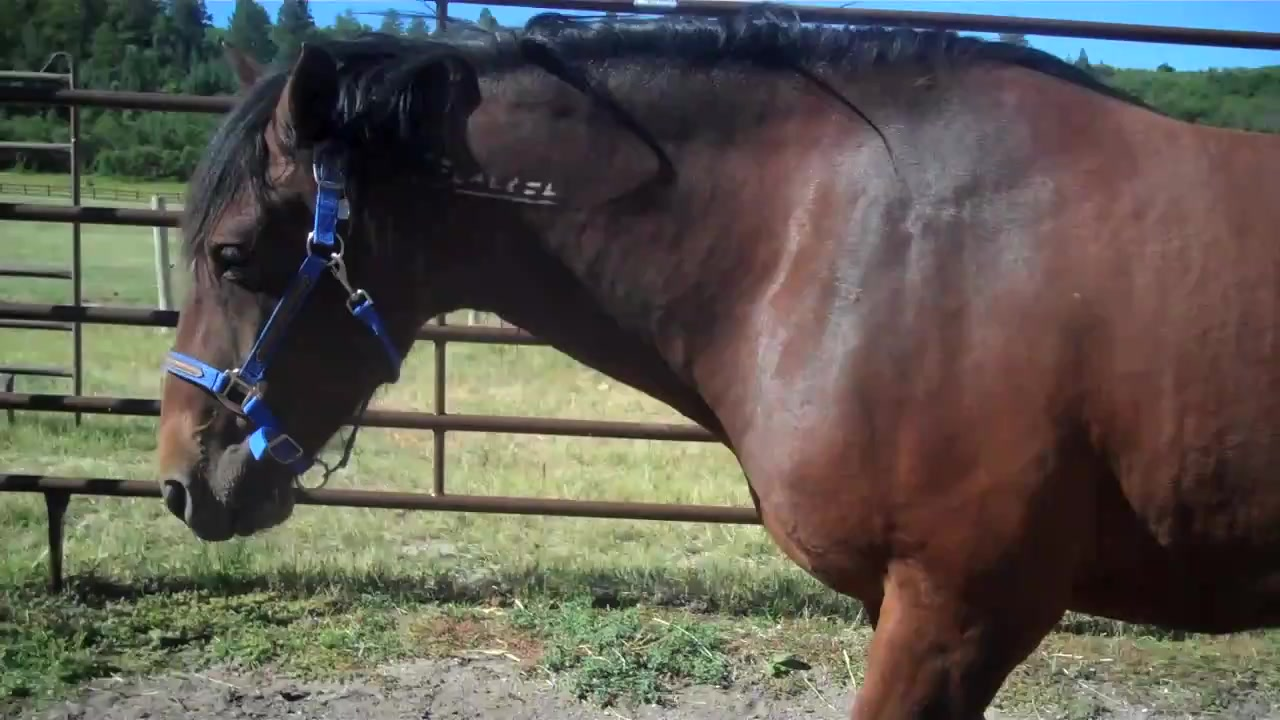horse: (149, 19, 1279, 720)
